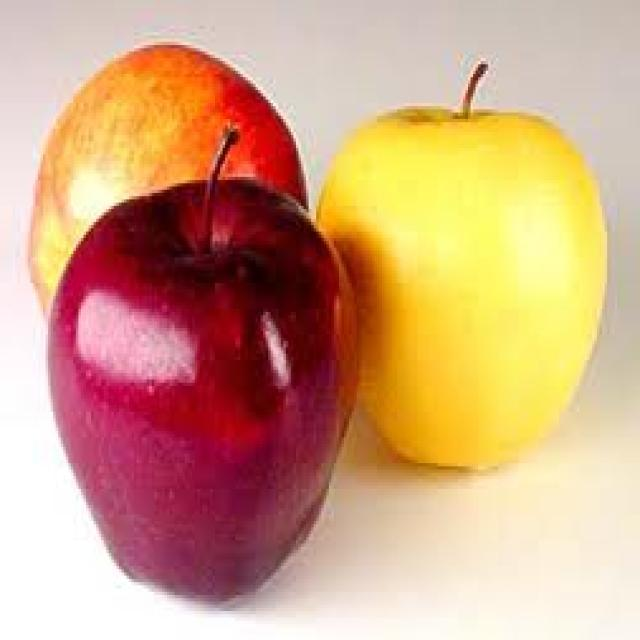Apple: (36, 158, 362, 612), (318, 45, 612, 489), (18, 29, 302, 302)
